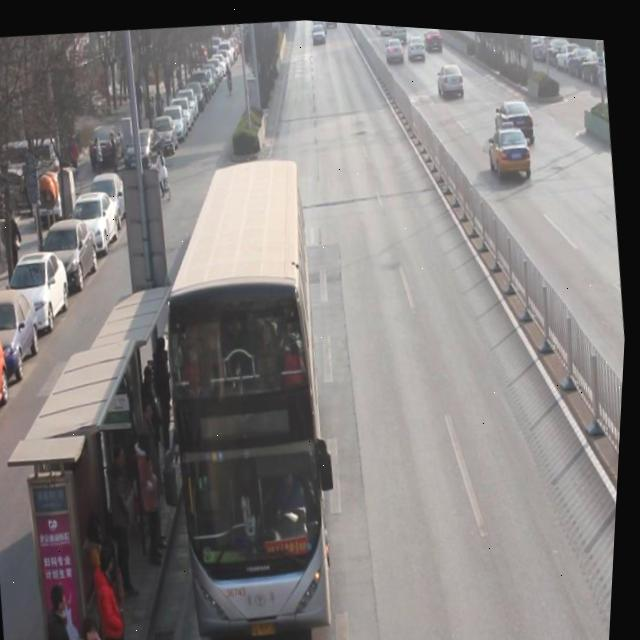car: (485, 111, 537, 177), (494, 88, 539, 145), (435, 56, 468, 98), (383, 30, 406, 60), (406, 29, 427, 59), (422, 22, 444, 48), (310, 19, 327, 43), (377, 20, 394, 31)
truck: (387, 20, 407, 38)
van: (137, 145, 360, 640)
